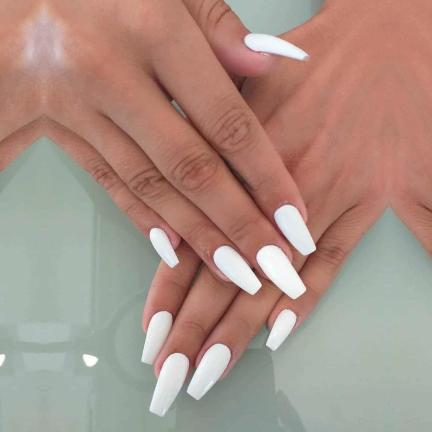Nail: (256, 245, 307, 300), (213, 246, 262, 295), (274, 204, 316, 256), (243, 33, 308, 60), (265, 309, 296, 351), (149, 228, 179, 269)
